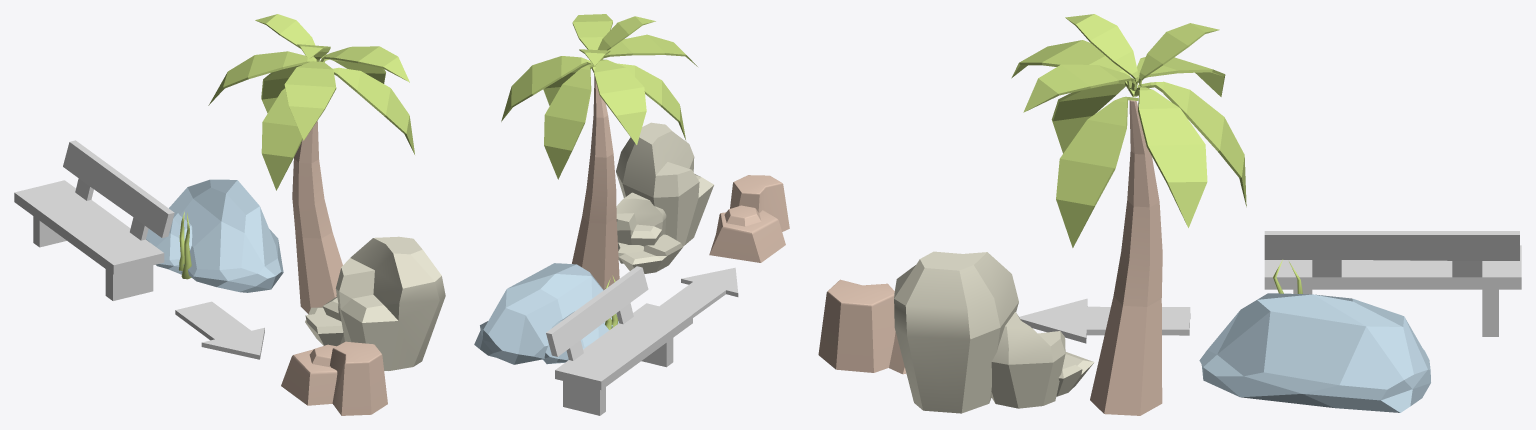
File: props.fbx
3 renders of one model, left to right at view 1: azimuth 30°, elevation 25°; view 2: azimuth 150°, elevation 25°; view 3: azimuth 270°, elevation 25°, orthographic. The views are drawn at different scales.
Visible parts, largest first — view 1: tree49, pCube23, decor3, decor4, pCylinder5, pPlane6, pCylinder2, pCylinder4; view 2: tree49, pCube23, decor3, decor4, pCylinder2, pPlane6, pCylinder5, pCylinder4; view 3: tree49, decor3, decor4, pCube23, pCylinder5, pPlane6.
Part boxes in pixels (box(x1,y1,x2,y2)): tree49: box(208, 14, 414, 313); pCube23: box(14, 140, 174, 300); decor3: box(305, 236, 445, 370); decor4: box(146, 179, 283, 292); pCylinder5: box(330, 341, 387, 415); pPlane6: box(175, 301, 264, 359); pCylinder2: box(281, 349, 337, 405); pCylinder4: box(309, 344, 336, 367); tree49: box(501, 14, 697, 289); pCube23: box(546, 266, 692, 415); decor3: box(616, 122, 713, 273); decor4: box(474, 263, 618, 364); pCylinder2: box(709, 210, 785, 262); pPlane6: box(660, 267, 738, 317); pCylinder5: box(730, 175, 789, 231); pCylinder4: box(724, 205, 761, 226); tree49: box(1011, 14, 1246, 415); decor3: box(894, 251, 1094, 413); decor4: box(1199, 259, 1430, 412); pCube23: box(1264, 231, 1521, 336); pCylinder5: box(818, 279, 895, 372); pPlane6: box(1019, 298, 1190, 343).
Size of the model in its own units: 20.61 by 23.53 by 40.83.
